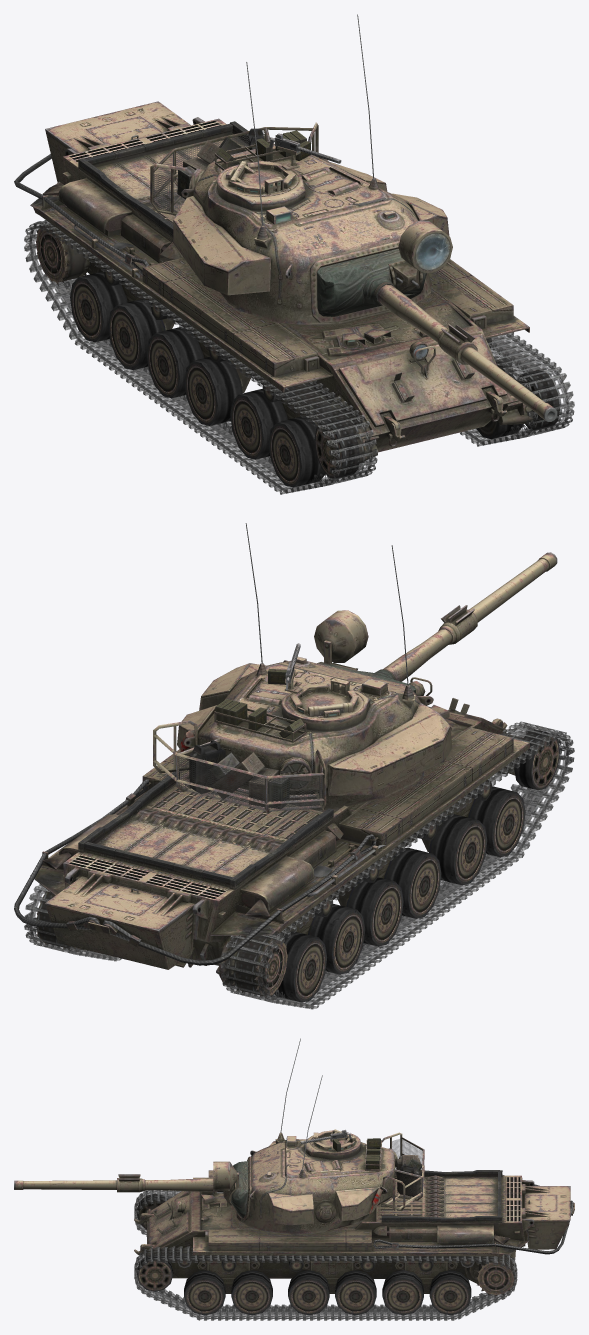
Rendered from centurion_mk._51_world_of_tanks_blitz.glb.
The picture shows the model from 3 angles, top to bottom: view 1: azimuth 30°, elevation 25°; view 2: azimuth 150°, elevation 25°; view 3: azimuth 270°, elevation 25°; orthographic projection. The views are drawn at different scales.
Parts seen in each view (by area): view 1: Object_3, Object_4, Object_2; view 2: Object_3, Object_4, Object_2; view 3: Object_3, Object_4, Object_2.
Part boxes in pixels (left/top/right/bottom): Object_3: left=14, top=14, right=559, bottom=487; Object_4: left=24, top=220, right=574, bottom=494; Object_2: left=153, top=130, right=264, bottom=211; Object_3: left=14, top=523, right=559, bottom=1002; Object_4: left=24, top=721, right=574, bottom=1009; Object_2: left=178, top=756, right=323, bottom=811; Object_3: left=14, top=1038, right=574, bottom=1315; Object_4: left=134, top=1190, right=517, bottom=1320; Object_2: left=392, top=1138, right=422, bottom=1198.
Size of the model in its own units: 3.33 by 4.7 by 10.59.
3 materials, 3 textured.
